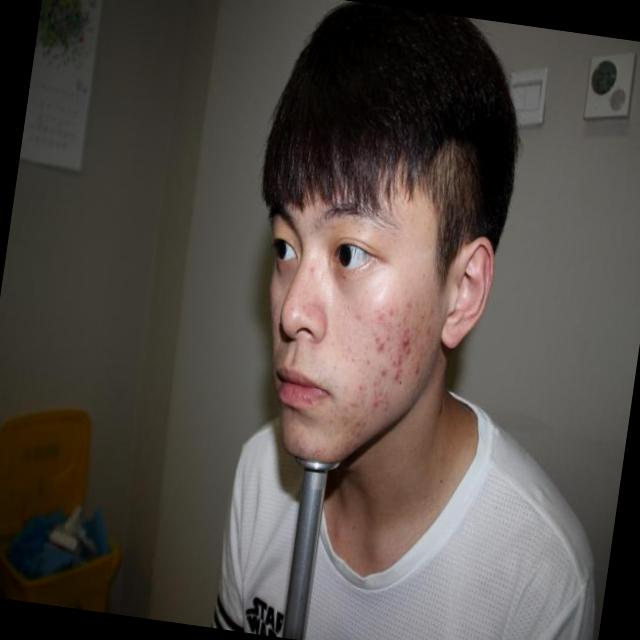acne: (384, 361, 404, 394), (364, 383, 389, 404), (423, 316, 438, 346), (351, 379, 368, 405), (351, 416, 368, 442), (398, 331, 418, 352), (368, 306, 386, 328), (382, 298, 398, 322), (422, 300, 440, 320), (399, 296, 417, 316), (372, 332, 387, 354), (388, 350, 404, 370), (336, 402, 351, 422), (377, 356, 388, 381), (411, 362, 422, 382), (384, 328, 396, 346), (382, 398, 394, 415), (419, 348, 431, 364), (370, 322, 380, 340), (395, 321, 406, 334), (336, 446, 344, 460)
